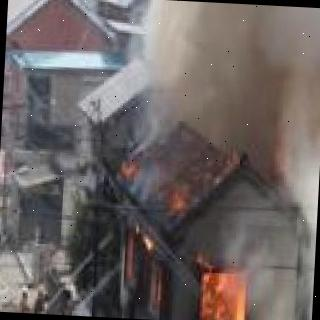fire: (91, 156, 317, 320)
